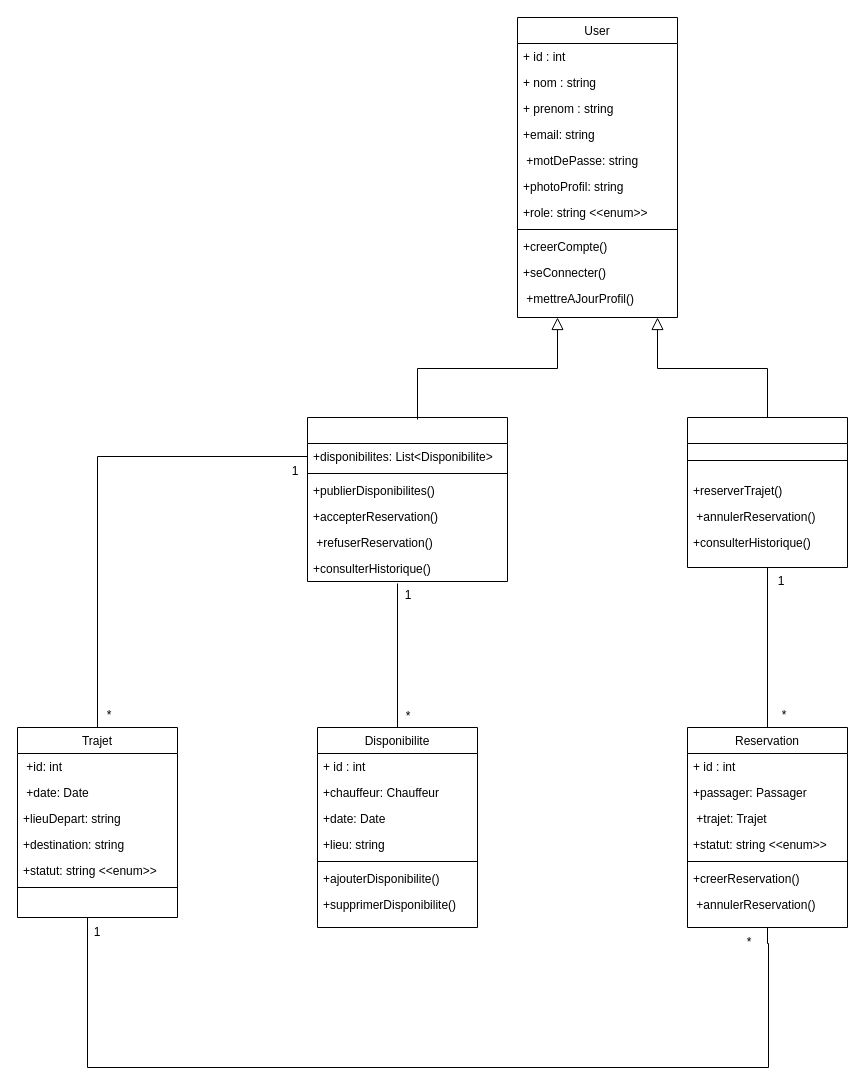
This 865x1086 diagram has some shape labels left out. The shapes that lost their labels are listed below. From the top down, each one's box as (x1, y1, x2, y2) in pixels, then its label:
(306, 416, 508, 582): Chauffeur
(686, 416, 848, 568): Passager
